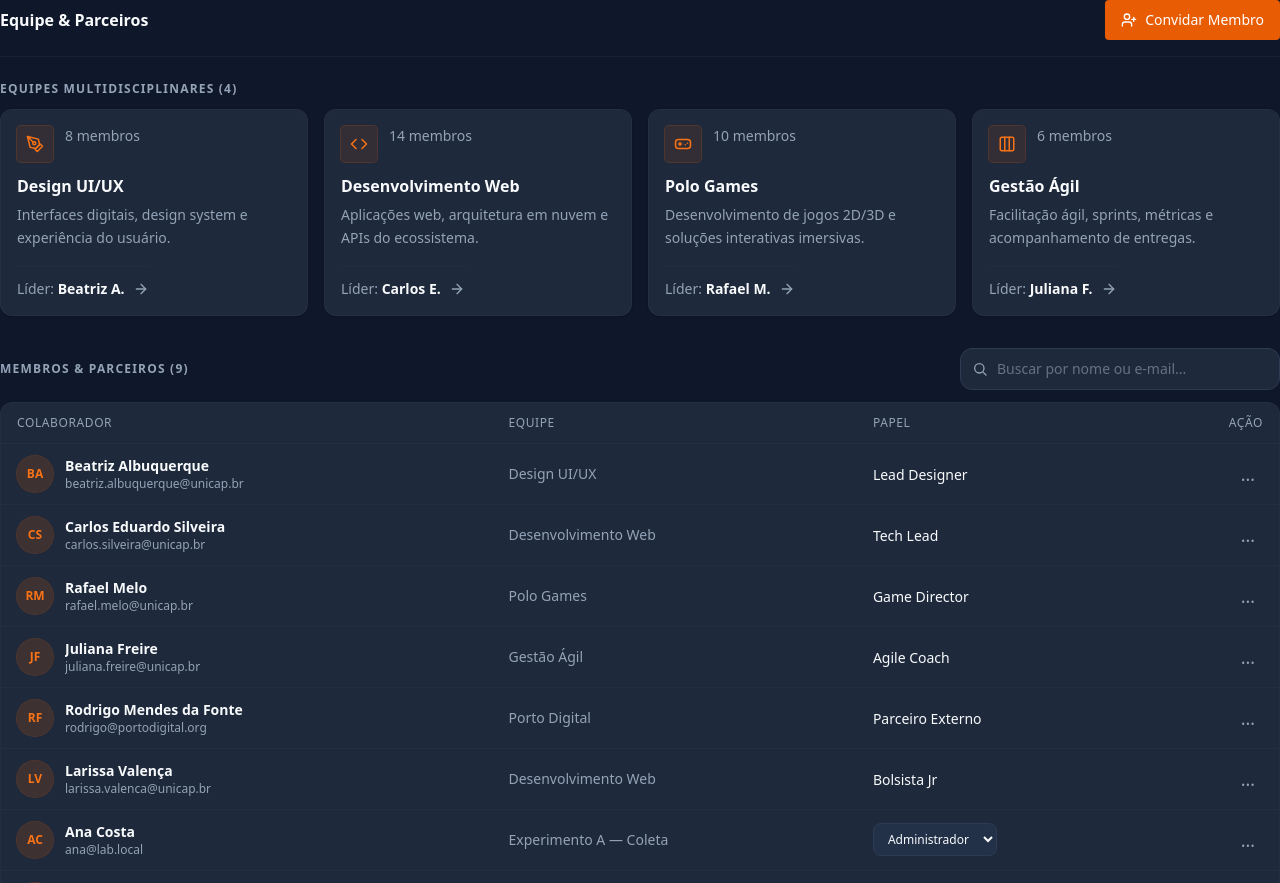
Scenario: Equipe & Parceiros (janela) › filtra a tabela ao clicar no card da equipe
Step 1. Click the button "Design UI/UX" → click(154, 212), box [0,109,308,316]
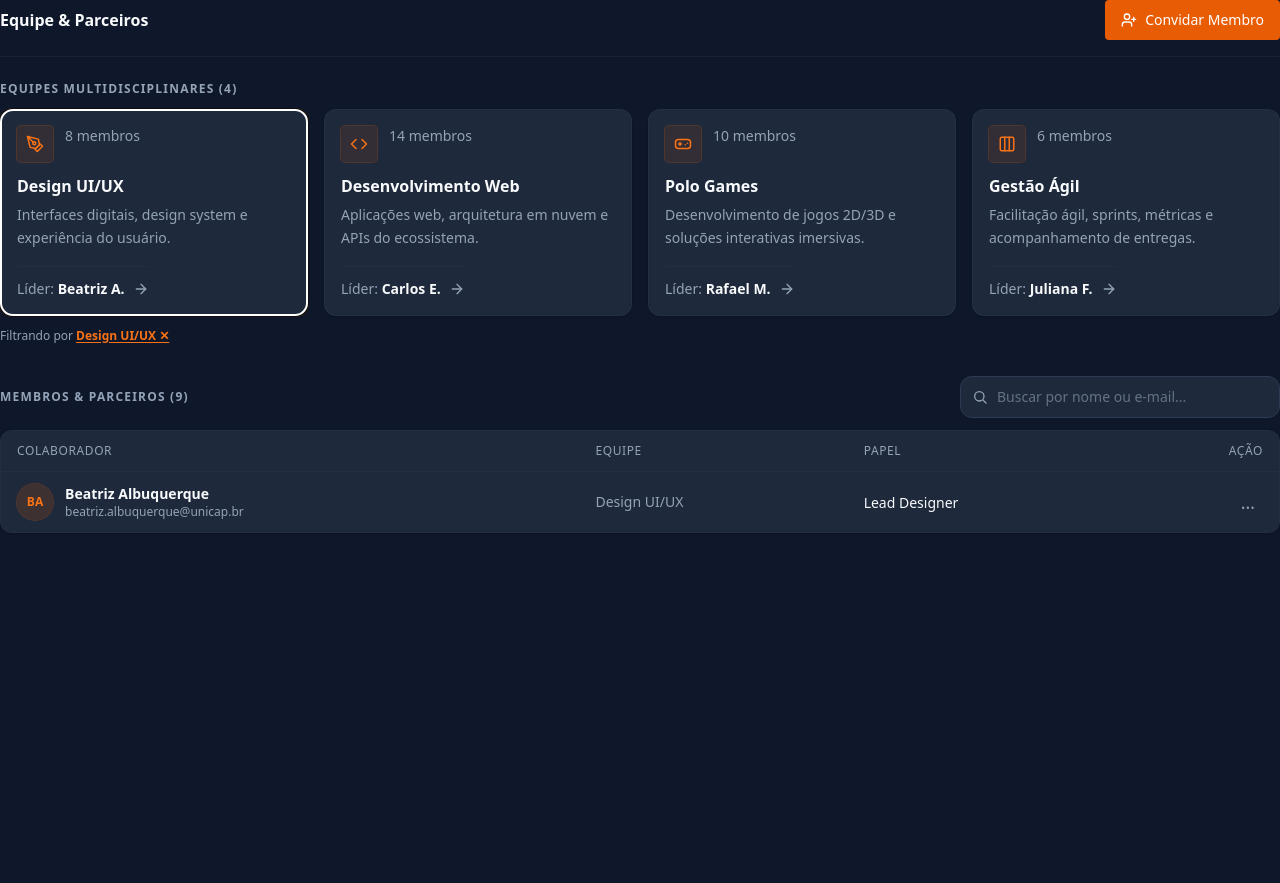
expect the text "Beatriz Albuquerque" is shown: met, box [65,484,209,502]
expect the text "Larissa Valença" is gone: met
